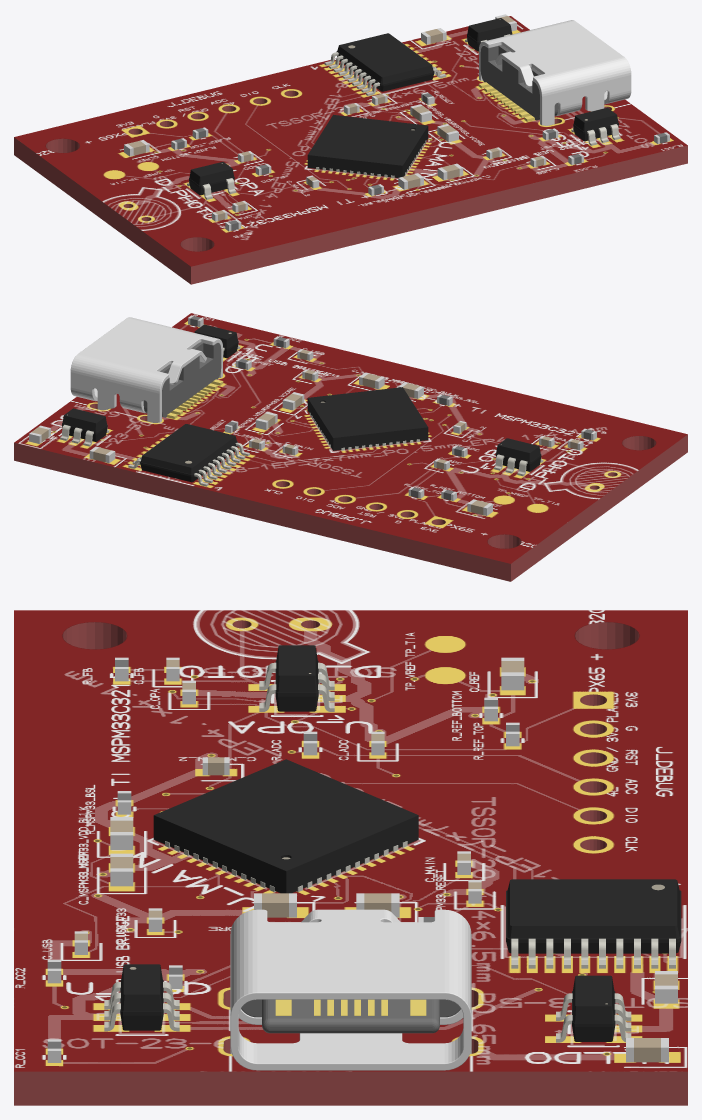
The picture shows the model from 3 angles, top to bottom: view 1: azimuth 30°, elevation 25°; view 2: azimuth 150°, elevation 25°; view 3: azimuth 270°, elevation 25°; orthographic projection. The views are drawn at different scales.
Visible parts, largest first — view 1: Box0, J1, U_MAIN, U_USB, U_ESD, U_OPA, U_LDO; view 2: Box0, J1, U_MAIN, U_USB, U_OPA, U_LDO, U_ESD; view 3: Box0, J1, U_MAIN, U_USB, U_ESD, U_OPA, U_LDO, C_LDO_IN, C_MSPM33_VCORE, C_MSPM33_VREF, C_REF, C_MSPM33_VBAT (+2 smaller).
Boxes of the visible parts, bbox=[...] form: Box0: bbox=[14, 16, 687, 284]; J1: bbox=[478, 20, 631, 125]; U_MAIN: bbox=[307, 114, 428, 178]; U_USB: bbox=[324, 33, 446, 95]; U_ESD: bbox=[571, 107, 620, 145]; U_OPA: bbox=[187, 162, 236, 199]; U_LDO: bbox=[465, 18, 512, 51]; Box0: bbox=[14, 313, 687, 581]; J1: bbox=[70, 317, 223, 422]; U_MAIN: bbox=[307, 387, 428, 450]; U_USB: bbox=[128, 424, 249, 486]; U_OPA: bbox=[494, 438, 543, 476]; U_LDO: bbox=[60, 408, 109, 446]; U_ESD: bbox=[194, 324, 240, 358]; Box0: bbox=[14, 610, 687, 1105]; J1: bbox=[230, 909, 471, 1070]; U_MAIN: bbox=[153, 759, 418, 893]; U_USB: bbox=[506, 879, 681, 968]; U_ESD: bbox=[104, 964, 179, 1031]; U_OPA: bbox=[259, 645, 334, 711]; U_LDO: bbox=[556, 975, 631, 1042]; C_LDO_IN: bbox=[626, 1038, 668, 1062]; C_MSPM33_VCORE: bbox=[254, 893, 296, 917]; C_MSPM33_VREF: bbox=[110, 853, 133, 886]; C_REF: bbox=[501, 657, 524, 690]; C_MSPM33_VBAT: bbox=[356, 893, 399, 917].
Bounding box in the file's own units: 40.54 × 4.65 × 25.
Materials: 13 (2 with a texture image).
